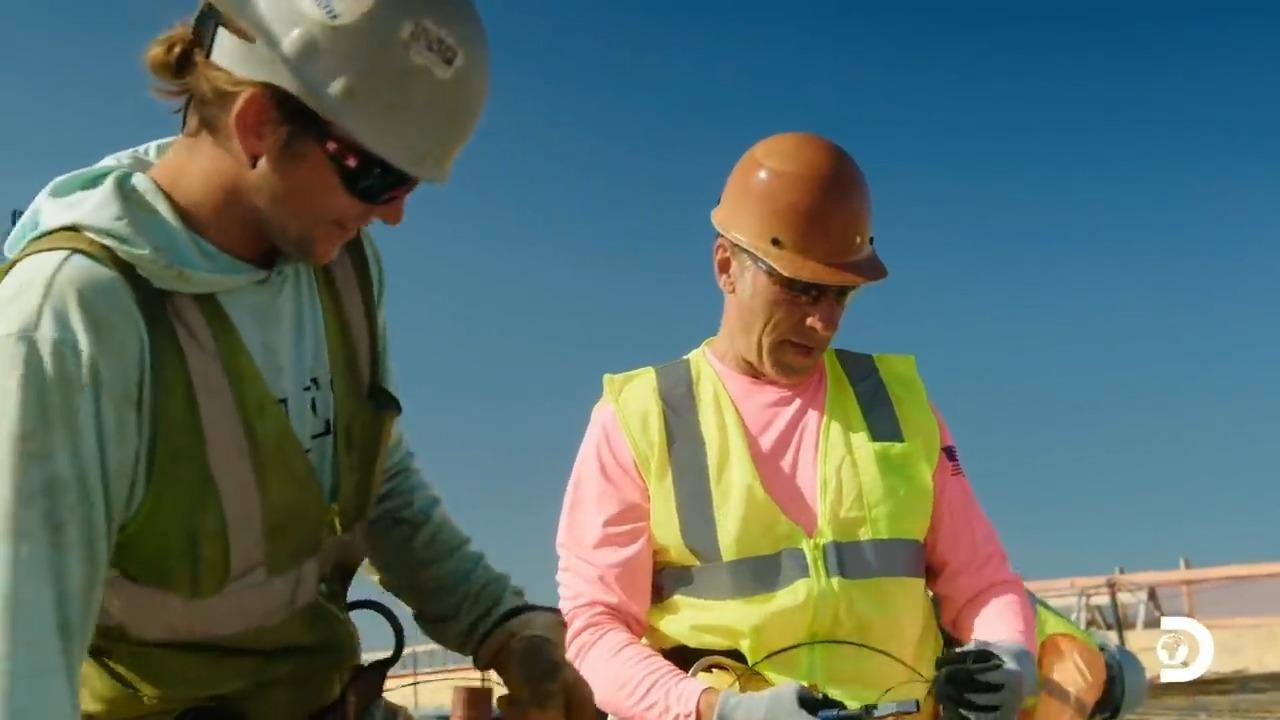Gloves: (482, 610, 600, 720), (935, 643, 1037, 720), (726, 680, 839, 720)
Helmet: (191, 0, 489, 184), (709, 130, 888, 287)
Person: (0, 0, 604, 719), (553, 130, 1041, 719)
Safety Vest: (44, 250, 359, 683), (618, 382, 931, 714)
